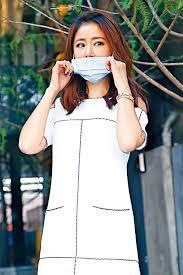WRONG: (72, 30, 121, 79)
